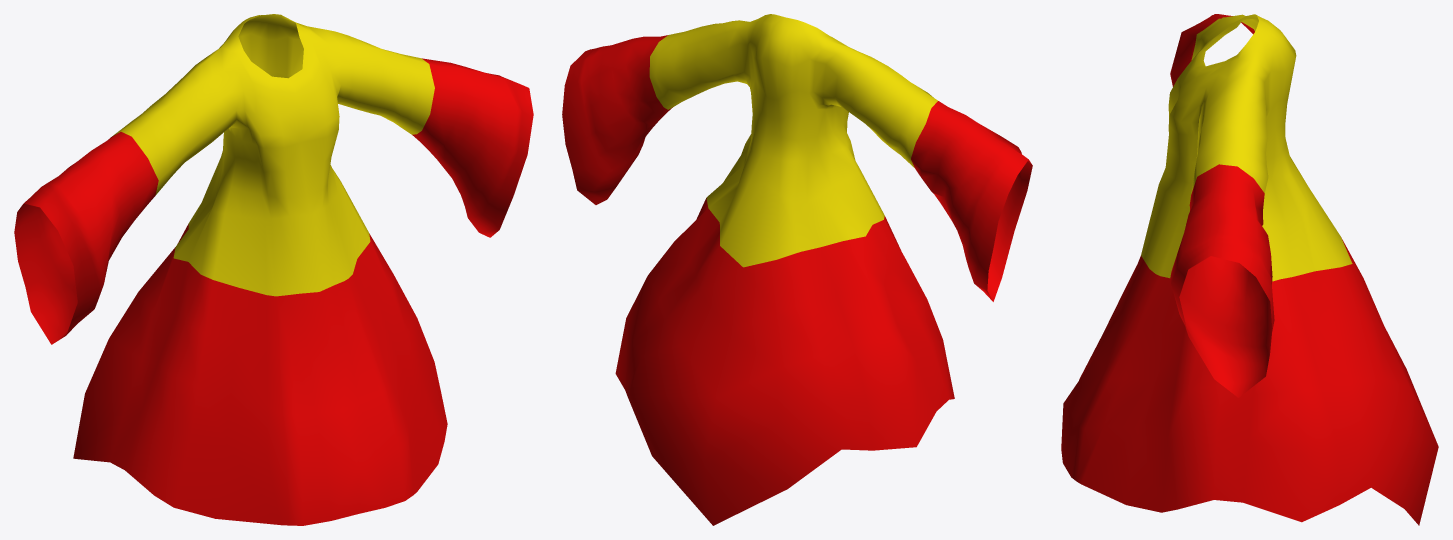
The model's file is Dress_LP.fbx.
3 renders of one model, left to right at view 1: azimuth 30°, elevation 25°; view 2: azimuth 150°, elevation 25°; view 3: azimuth 270°, elevation 25°, orthographic. The views are drawn at different scales.
Parts seen in each view (by area): view 1: Dress_LP; view 2: Dress_LP; view 3: Dress_LP.
Part boxes in pixels (bbox=[...]): Dress_LP: bbox=[14, 14, 533, 525]; Dress_LP: bbox=[562, 14, 1032, 525]; Dress_LP: bbox=[1061, 14, 1438, 525].
Bounding box in the file's own units: 3.13 × 3.05 × 2.06.
